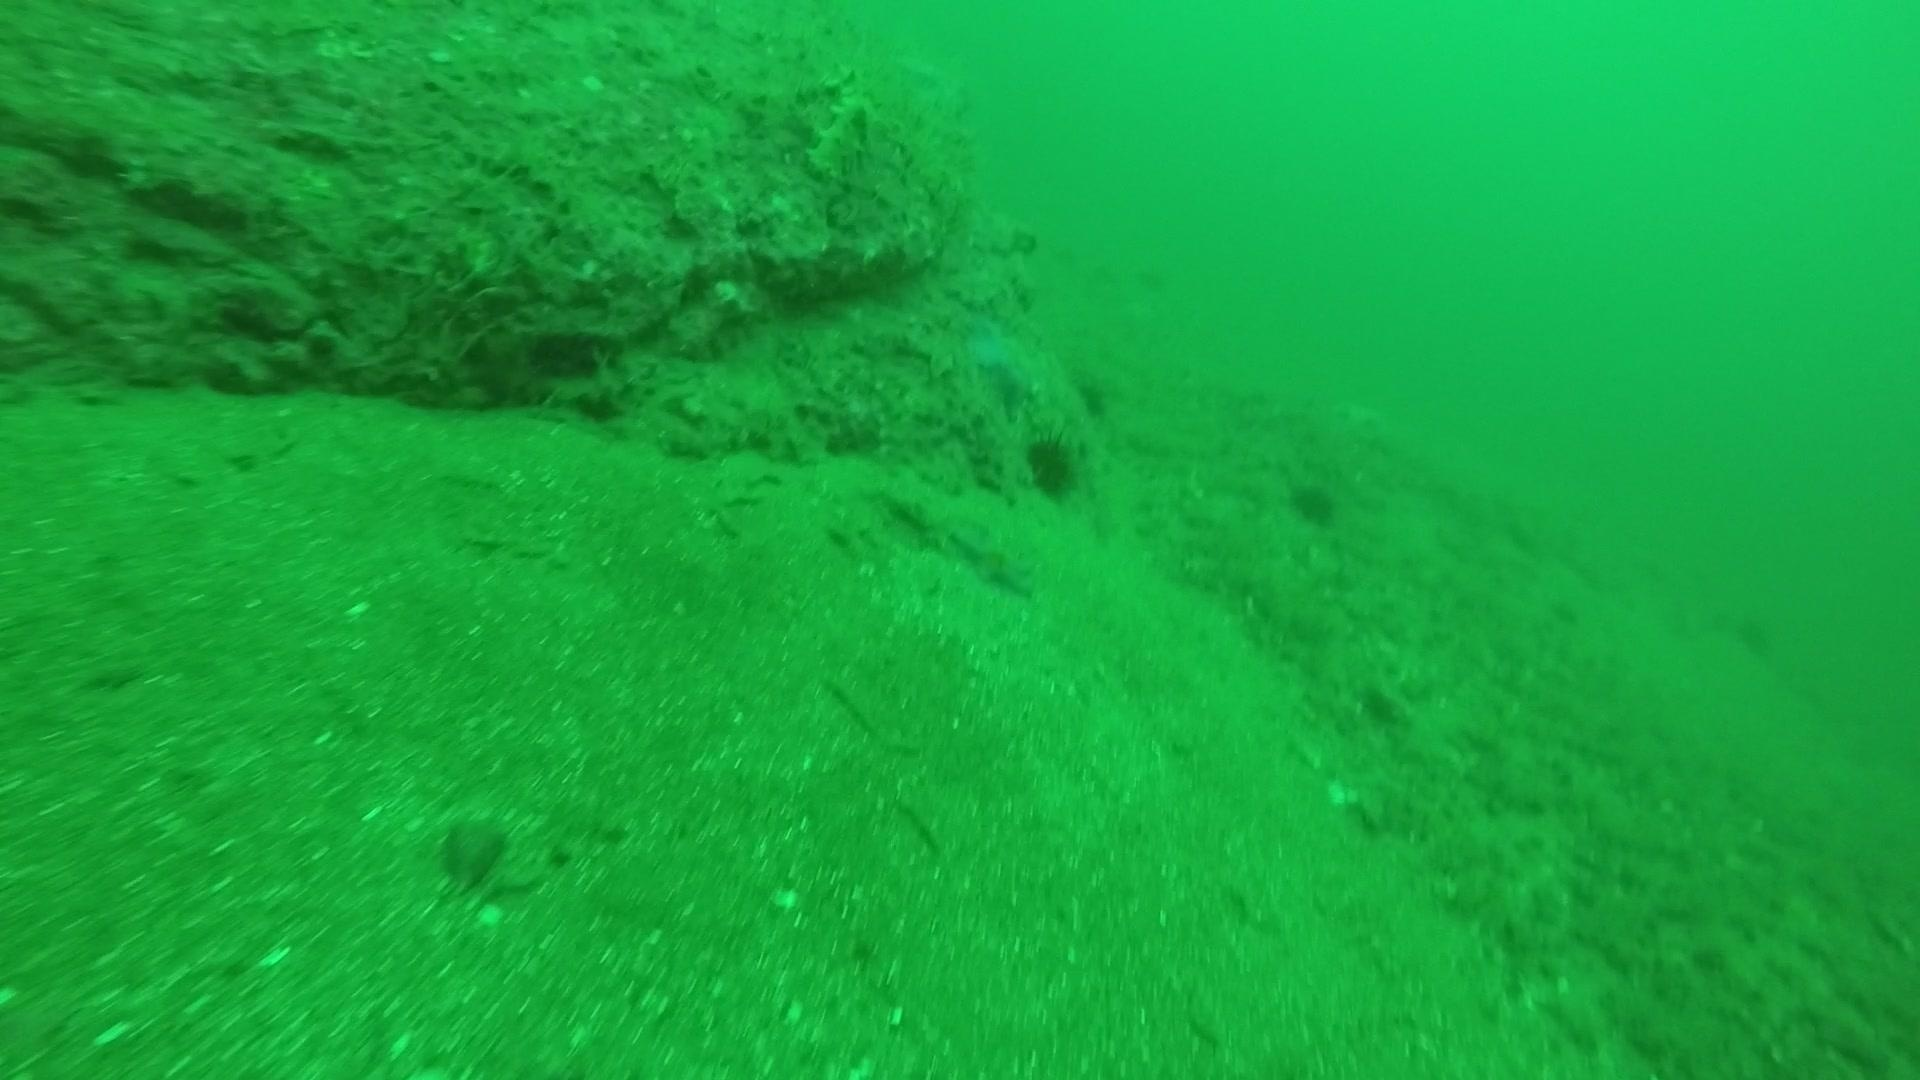echinus: (1017, 425, 1091, 504), (1284, 473, 1344, 531)
starfish: (959, 313, 1044, 417), (945, 520, 1039, 601)
